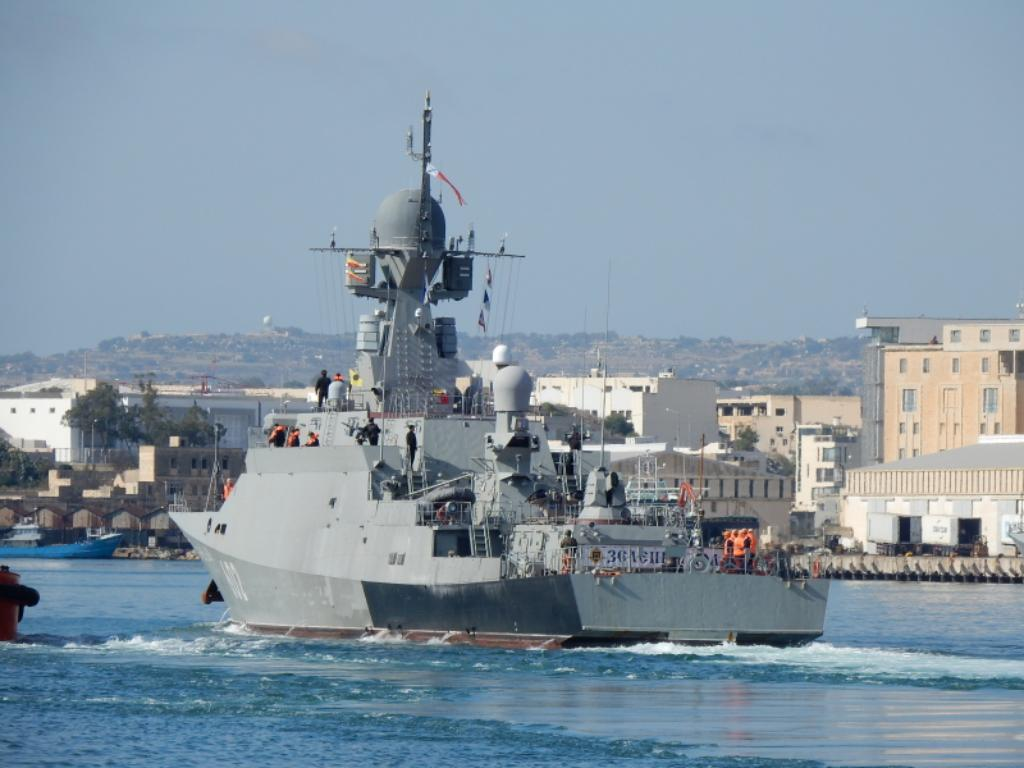Warship: (166, 83, 838, 651)
